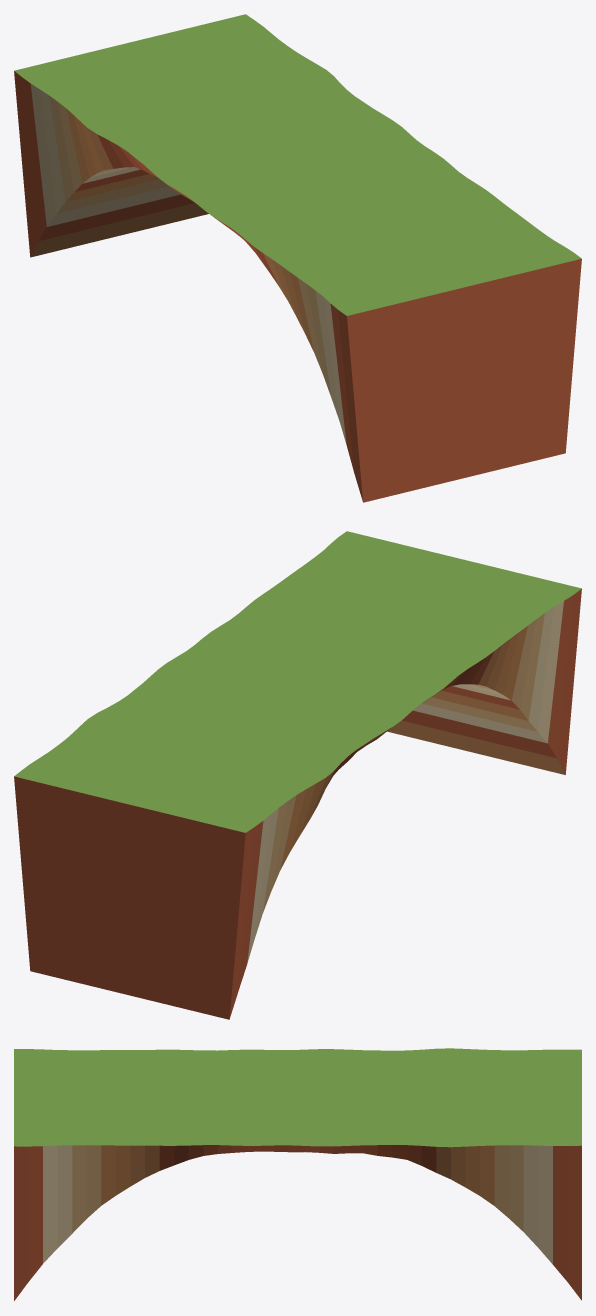
File: ponte_01d2.glb
3 renders of one model, top to bottom at view 1: azimuth 30°, elevation 25°; view 2: azimuth 150°, elevation 25°; view 3: azimuth 270°, elevation 25°, orthographic. The views are drawn at different scales.
Parts seen in each view (by area): view 1: ponte_01d2; view 2: ponte_01d2; view 3: ponte_01d2.
Part boxes in pixels (x1,y1,x2,y2): ponte_01d2: [14, 14, 581, 502]; ponte_01d2: [14, 531, 581, 1019]; ponte_01d2: [14, 1048, 581, 1300].
Bounding box in the file's own units: 65.86 × 50.31 × 160.
